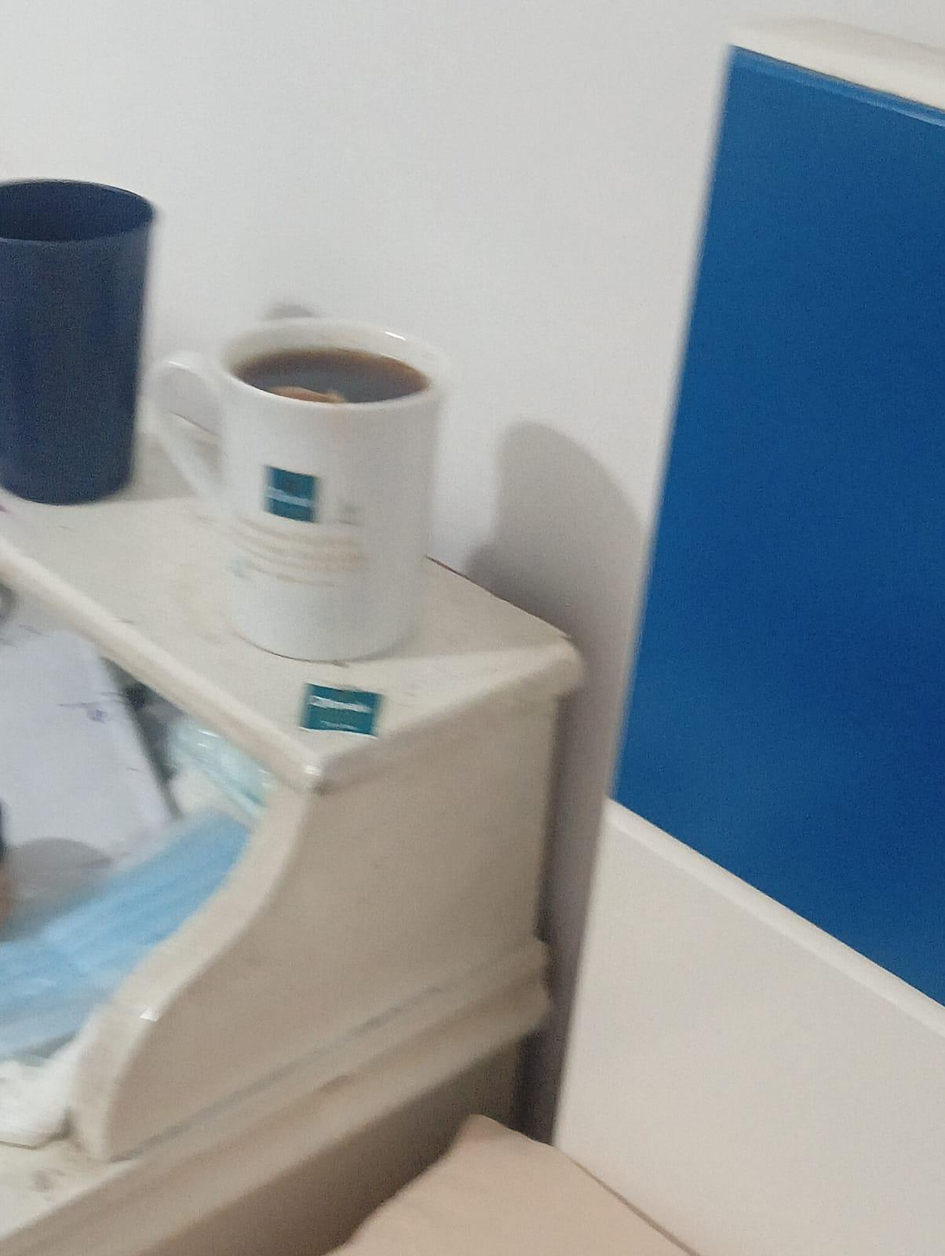cup: (147, 318, 445, 660), (0, 181, 153, 502)
